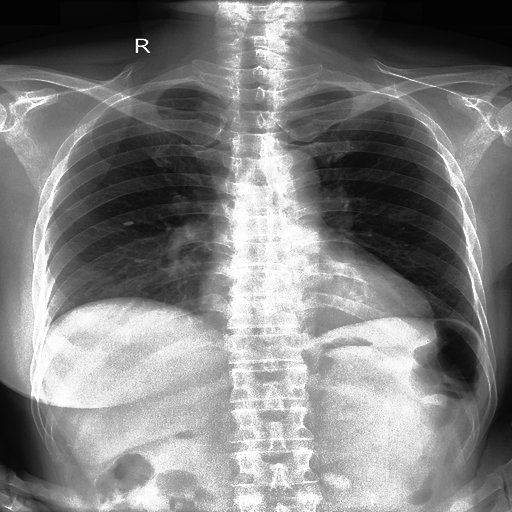Nodule/Mass: (193, 279, 435, 329)
Pulmonary fibrosis: (123, 221, 133, 226)
